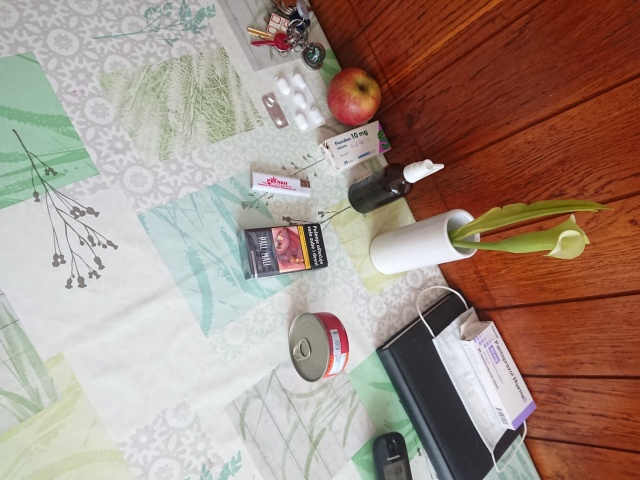Gavrilovic Pork Liver Pate 100g: (284, 309, 351, 384)
